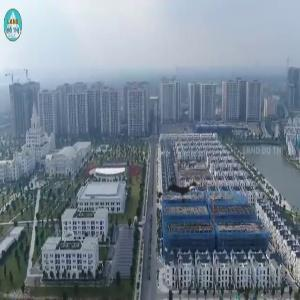drone: (143, 157, 218, 232)
